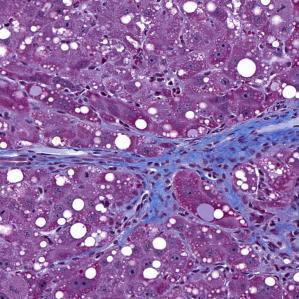fibrosis: (134, 124, 254, 215), (234, 201, 295, 282), (233, 98, 297, 158)
